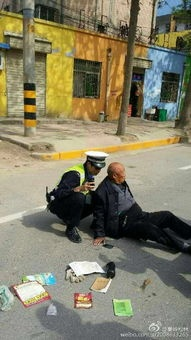falling: (93, 154, 191, 263)
